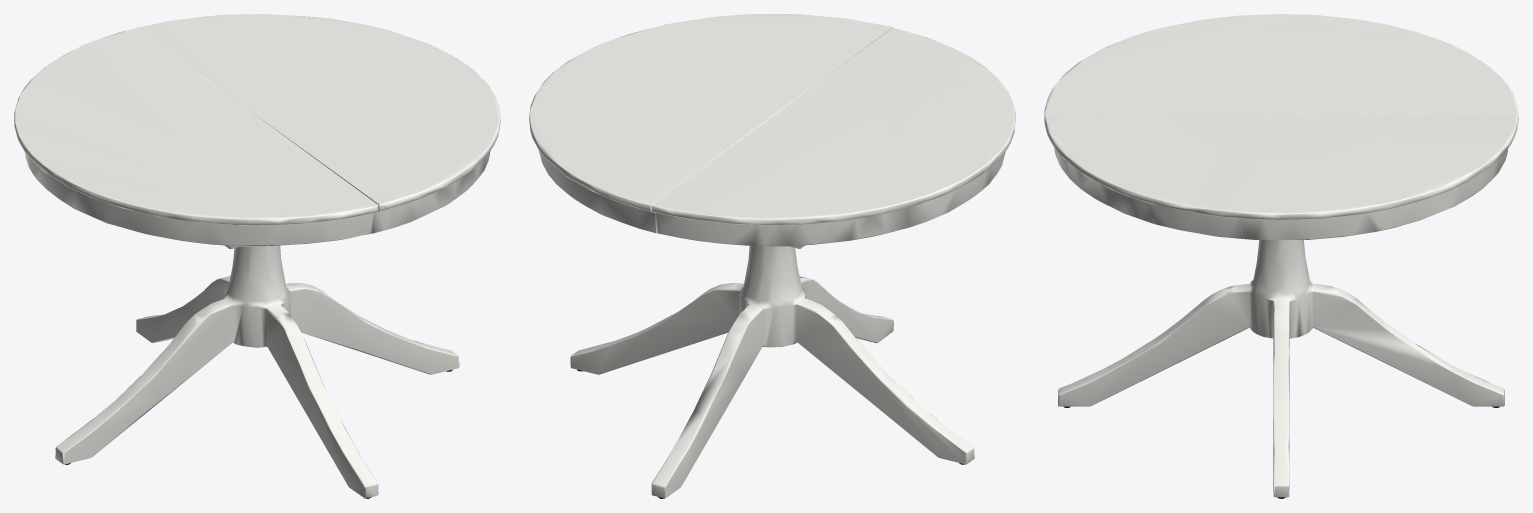
3 views of the same model, side by side, from view 1: azimuth 30°, elevation 25°; view 2: azimuth 150°, elevation 25°; view 3: azimuth 270°, elevation 25° (orthographic). The views are drawn at different scales.
Parts seen in each view (by area): view 1: ASY_LPT05_80568239_S01_NV01, ASY_LPT09_80568239_S01_NV01, ASY_ART_80568239_S01_NV01; view 2: ASY_LPT05_80568239_S01_NV01, ASY_LPT09_80568239_S01_NV01, ASY_ART_80568239_S01_NV01; view 3: ASY_LPT09_80568239_S01_NV01, ASY_LPT05_80568239_S01_NV01, ASY_ART_80568239_S01_NV01.
Boxes of the visible parts, <box> form: ASY_LPT05_80568239_S01_NV01: <box>14,28,378,246</box>; ASY_LPT09_80568239_S01_NV01: <box>136,14,500,233</box>; ASY_ART_80568239_S01_NV01: <box>55,245,459,498</box>; ASY_LPT05_80568239_S01_NV01: <box>651,28,1015,246</box>; ASY_LPT09_80568239_S01_NV01: <box>529,14,893,232</box>; ASY_ART_80568239_S01_NV01: <box>570,245,974,498</box>; ASY_LPT09_80568239_S01_NV01: <box>1044,113,1518,239</box>; ASY_LPT05_80568239_S01_NV01: <box>1044,14,1518,116</box>; ASY_ART_80568239_S01_NV01: <box>1058,240,1504,498</box>.
Bounding box in the file's own units: 1.1 × 0.7506 × 1.1.
7 materials, 7 textured.
